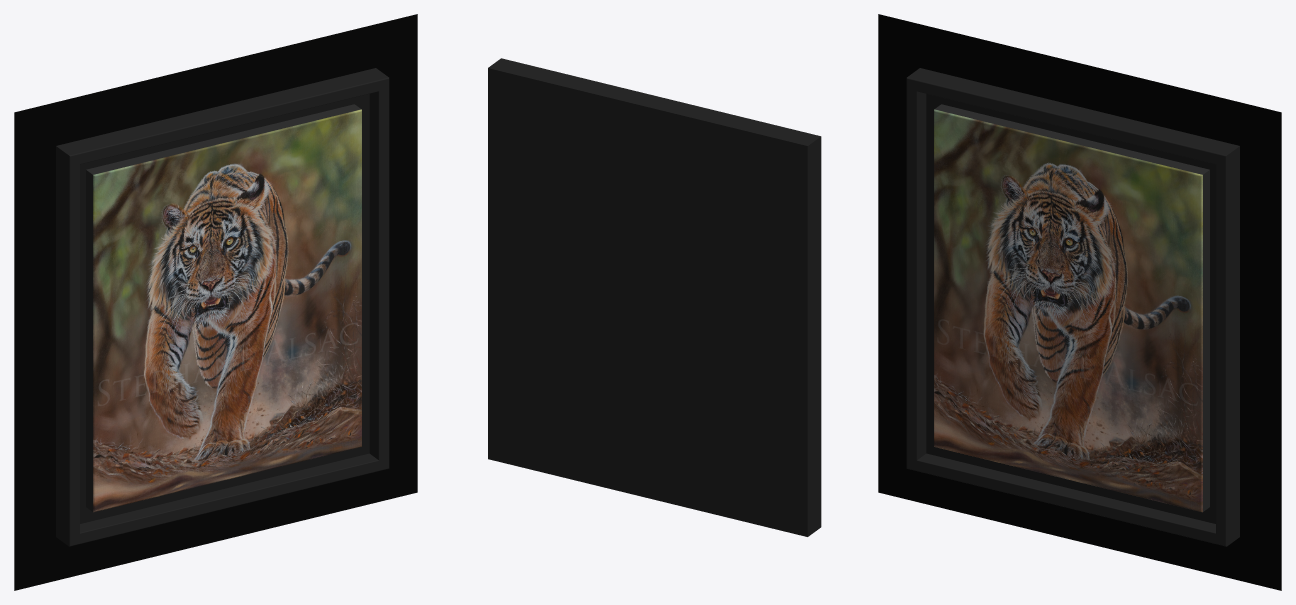
The model's file is tableau-peinture-tigre-classique-fbc314ca.glb.
The picture shows the model from 3 angles, left to right: view 1: azimuth 30°, elevation 25°; view 2: azimuth 150°, elevation 25°; view 3: azimuth 330°, elevation 25°; orthographic projection.
Visible parts, largest first — view 1: Painting; view 2: Painting; view 3: Painting.
Part boxes in pixels (box(x1,y1,x2,y2)): Painting: box(14, 14, 417, 590); Painting: box(488, 58, 821, 536); Painting: box(878, 14, 1281, 590).
Size of the model in its own units: 0.676 by 0.766 by 0.04.
Materials: 5 (3 with a texture image).
